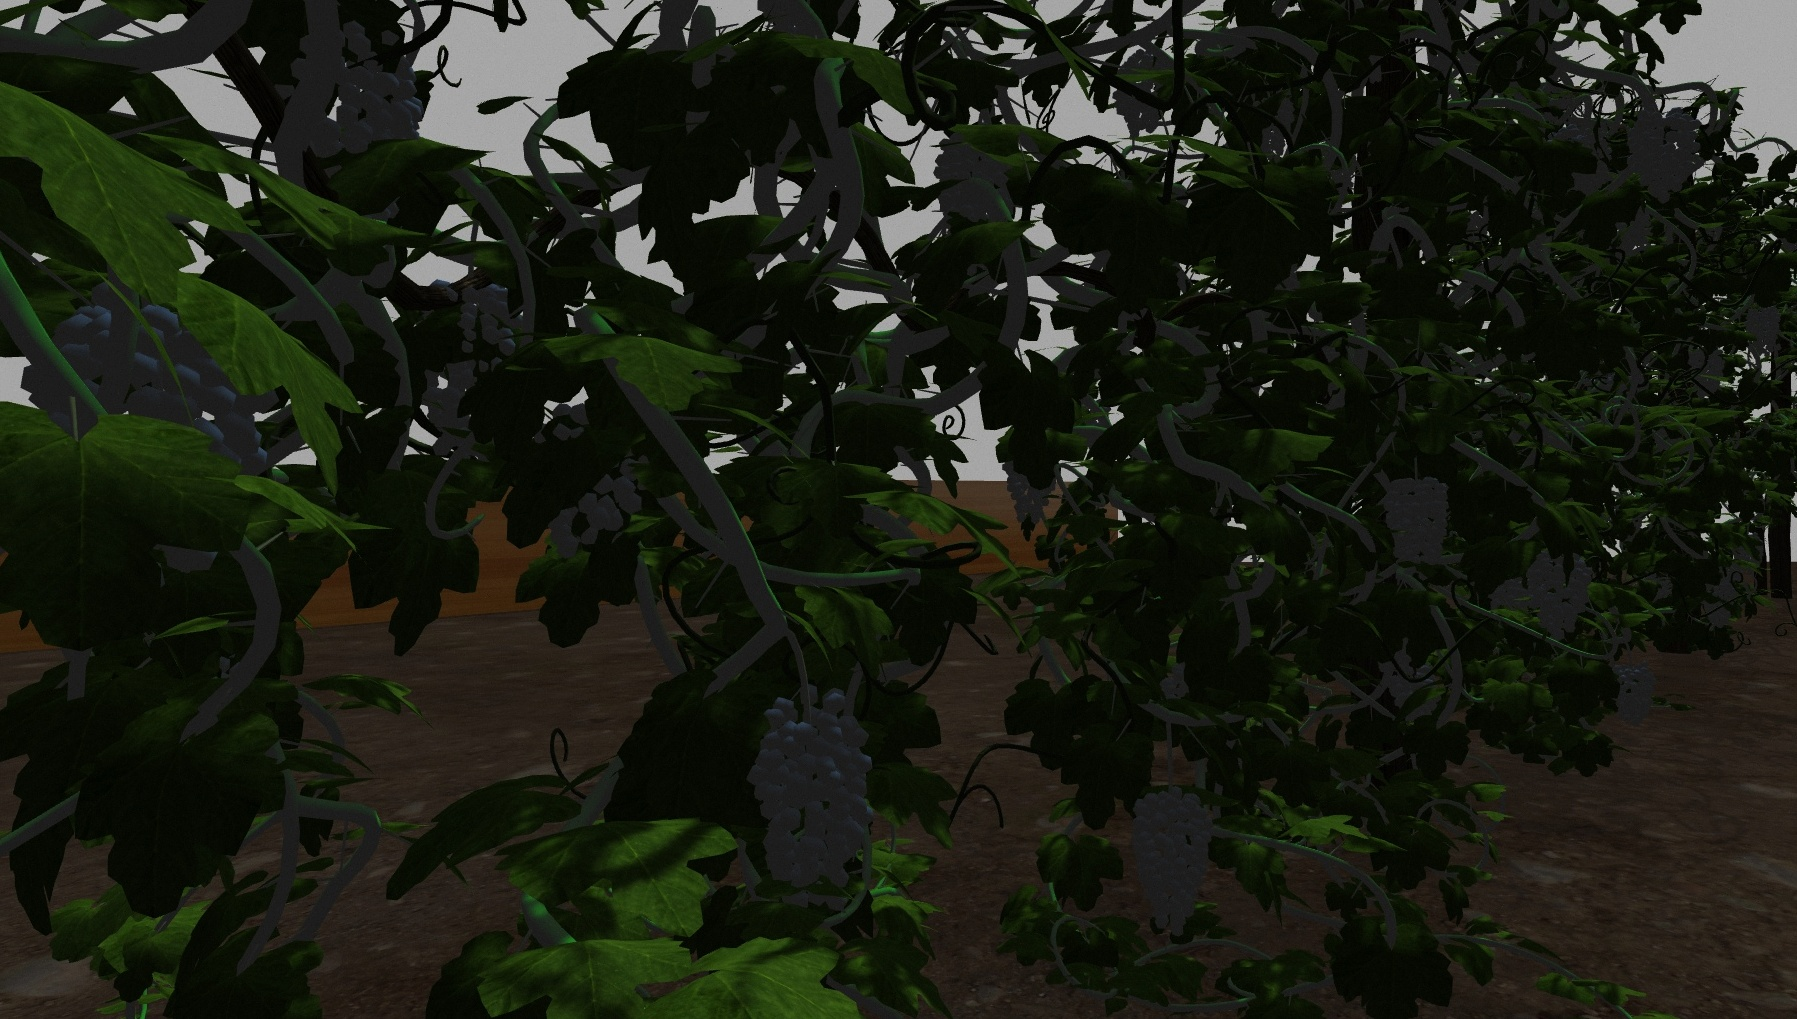grape: (20, 307, 255, 468), (748, 683, 873, 891), (1119, 788, 1218, 939), (322, 25, 420, 157), (1622, 107, 1704, 204), (1522, 548, 1595, 640), (1384, 476, 1450, 563), (457, 283, 515, 374), (934, 138, 997, 221), (1611, 666, 1658, 725), (1743, 301, 1782, 350)
